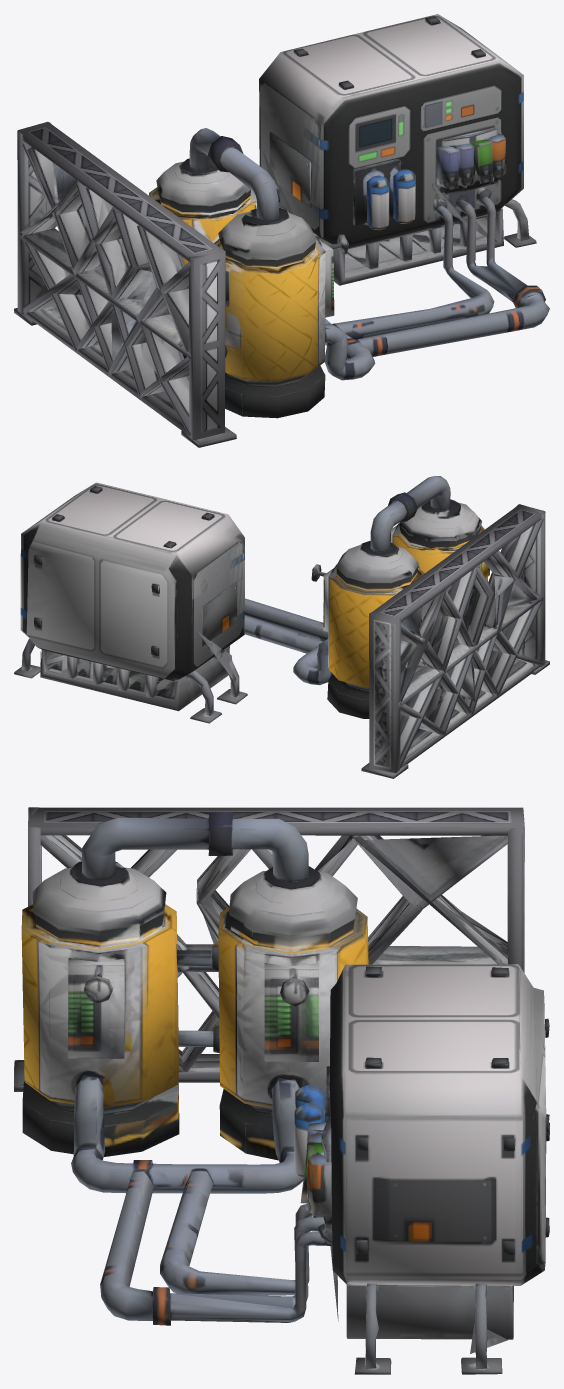
File: agua (1).fbx
3 views of the same model, one above another, from view 1: azimuth 30°, elevation 25°; view 2: azimuth 150°, elevation 25°; view 3: azimuth 270°, elevation 25° (orthographic). The views are drawn at different scales.
Parts seen in each view (by area): view 1: Mesh_0; view 2: Mesh_0; view 3: Mesh_0.
Part boxes in pixels (<box>): Mesh_0: <box>14,14,549,447</box>; Mesh_0: <box>14,476,549,778</box>; Mesh_0: <box>14,807,549,1374</box>.
Bounding box in the file's own units: 100 × 47.99 × 72.16.
Materials: 1 (1 with a texture image).
